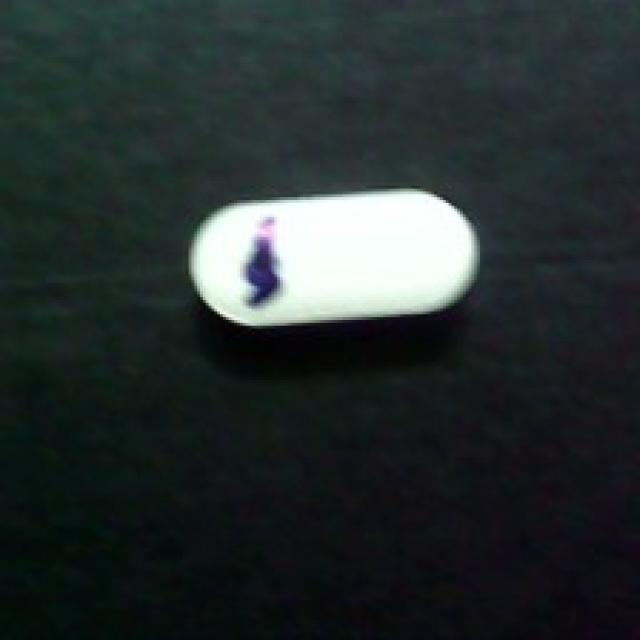defected: (183, 189, 486, 337)
